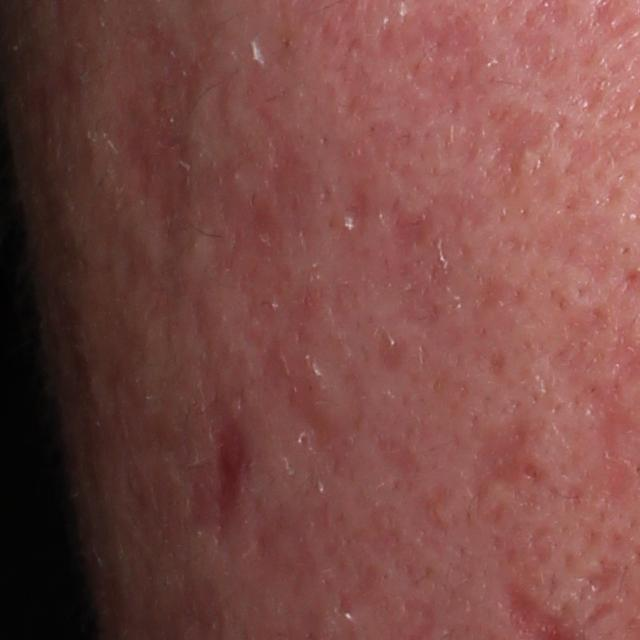atrophic_scar: (115, 9, 200, 255), (186, 384, 269, 561), (505, 188, 624, 284), (364, 15, 490, 96), (466, 408, 558, 513), (482, 101, 568, 189), (509, 28, 575, 90), (385, 200, 436, 252), (335, 176, 371, 244), (578, 552, 626, 601)
